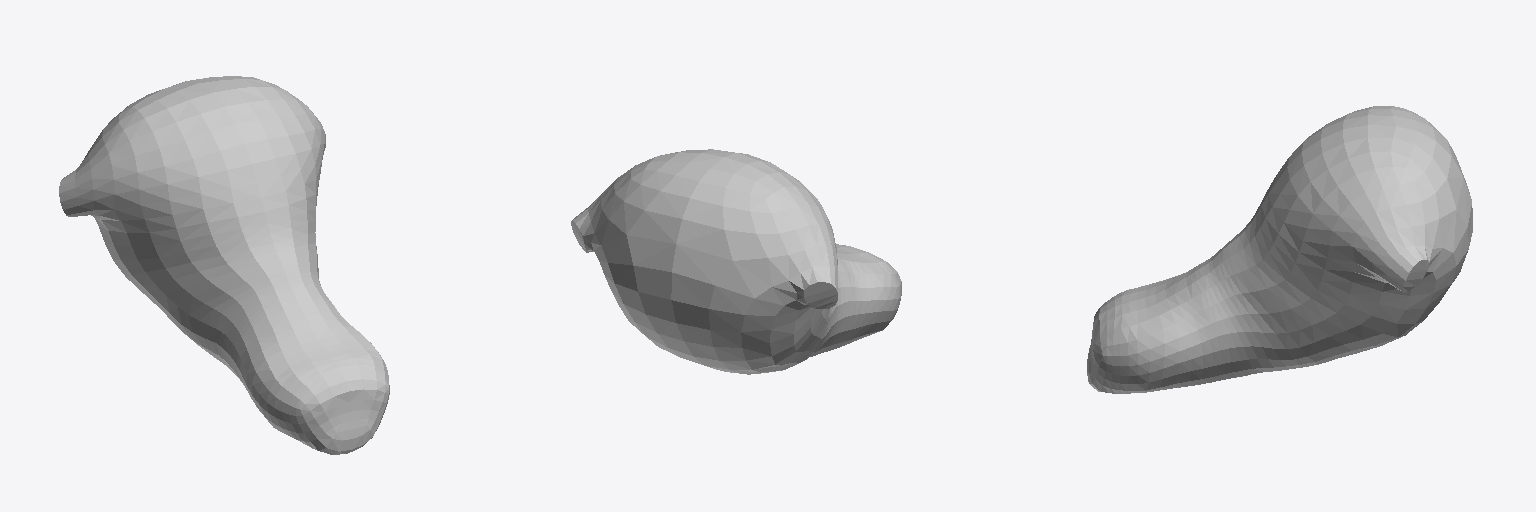
The model's file is Utero_Alone.obj.
3 views of the same model, side by side, from view 1: azimuth 30°, elevation 25°; view 2: azimuth 150°, elevation 25°; view 3: azimuth 270°, elevation 25° (orthographic).
Size of the model in its own units: 1.65 by 1.55 by 2.08.